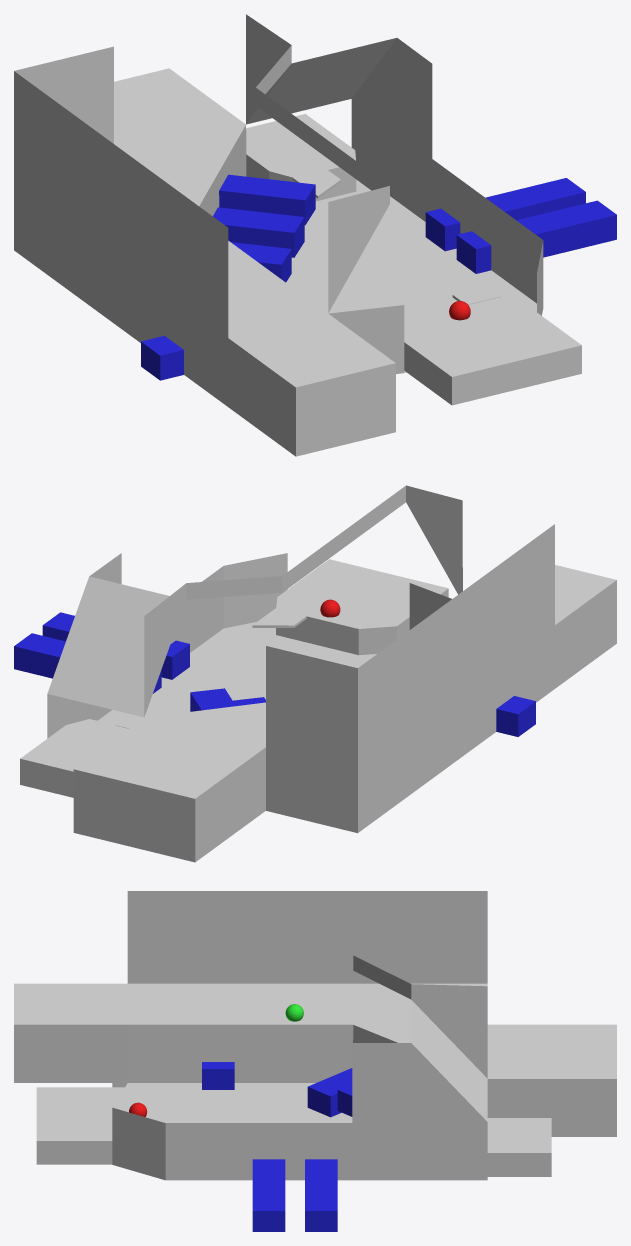
File: layoutPuzzle_Jump.fbx
3 renders of one model, top to bottom at view 1: azimuth 30°, elevation 25°; view 2: azimuth 150°, elevation 25°; view 3: azimuth 270°, elevation 25°, orthographic. The views are drawn at different scales.
Visible parts, largest first — view 1: Plane, startBase, endBase, Cube.001, Cube.005, Cube.004, Cube.003, Cube, Cube.002, Plane.001, Plane.002; view 2: Plane, startBase, endBase, Cube.005, Cube.001, Cube, Cube.004, Plane.001; view 3: Plane, startBase, endBase, Cube.001, Cube.005, Cube.002, Cube.
Part boxes in pixels (<box>): Plane: <box>14,14,543,456</box>; startBase: <box>404,297,581,405</box>; endBase: <box>246,114,356,201</box>; Cube.001: <box>456,200,616,273</box>; Cube.005: <box>425,178,585,251</box>; Cube.004: <box>219,174,315,225</box>; Cube.003: <box>213,207,304,257</box>; Cube: <box>141,336,183,380</box>; Cube.002: <box>231,242,291,282</box>; Plane.001: <box>452,278,500,304</box>; Plane.002: <box>293,169,340,198</box>; Plane: <box>47,485,616,862</box>; startBase: <box>276,559,448,655</box>; endBase: <box>20,719,128,797</box>; Cube.005: <box>14,633,161,693</box>; Cube.001: <box>42,612,189,679</box>; Cube: <box>496,696,535,736</box>; Cube.004: <box>190,688,235,711</box>; Plane.001: <box>252,608,306,627</box>; Plane: <box>14,891,616,1180</box>; startBase: <box>36,1087,153,1164</box>; endBase: <box>487,1118,551,1176</box>; Cube.001: <box>252,1159,285,1231</box>; Cube.005: <box>305,1159,337,1231</box>; Cube.002: <box>307,1068,352,1117</box>; Cube: <box>202,1062,234,1089</box>.
Size of the model in its own units: 1588 by 567 by 2026.
